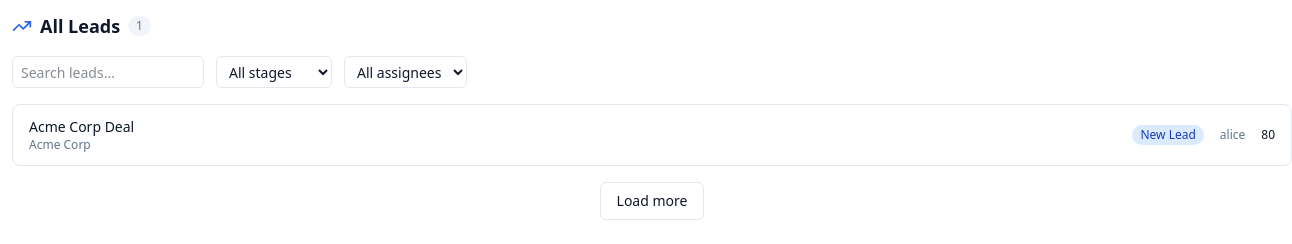
LeadsManagementView › appends next page of leads when load-more is clicked
Click the button with test id "leads-load-more": {"x": 652, "y": 201} [600,182,704,220]
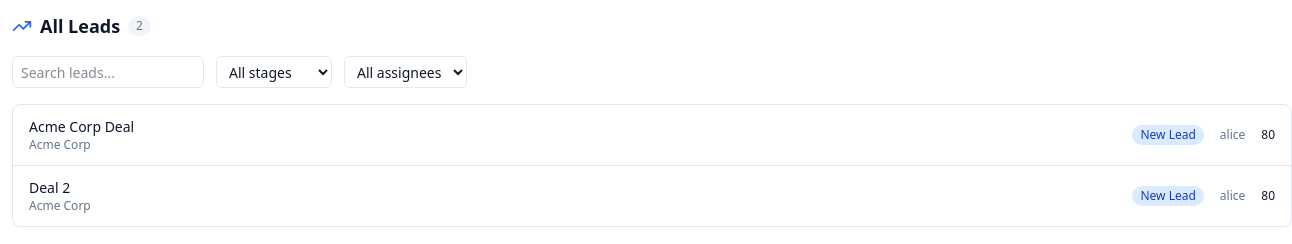
Expected: the link with test id "lead-row-t1" is shown, [13,105,1291,166]
Result: the link with test id "lead-row-t2" is shown at [13,166,1291,226]
Result: the button with test id "leads-load-more" is gone
